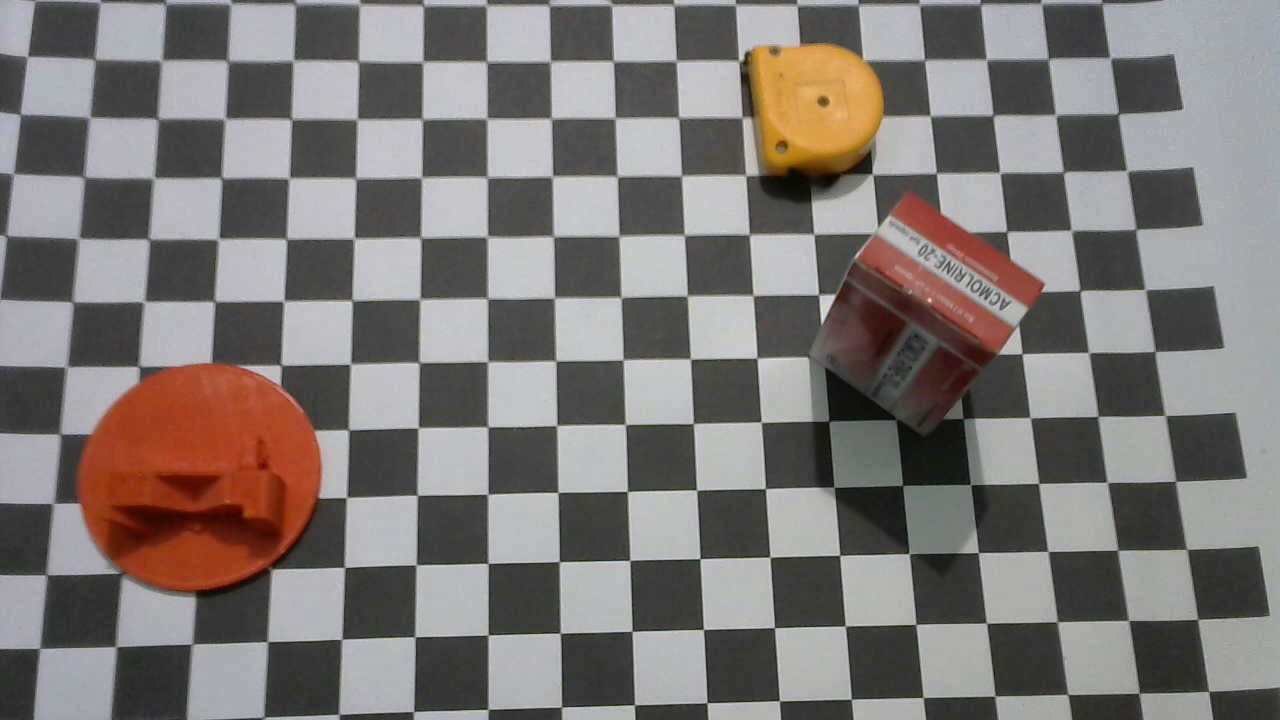blue: (743, 42, 886, 178)
green: (77, 360, 325, 594)
red: (810, 194, 1048, 433)
